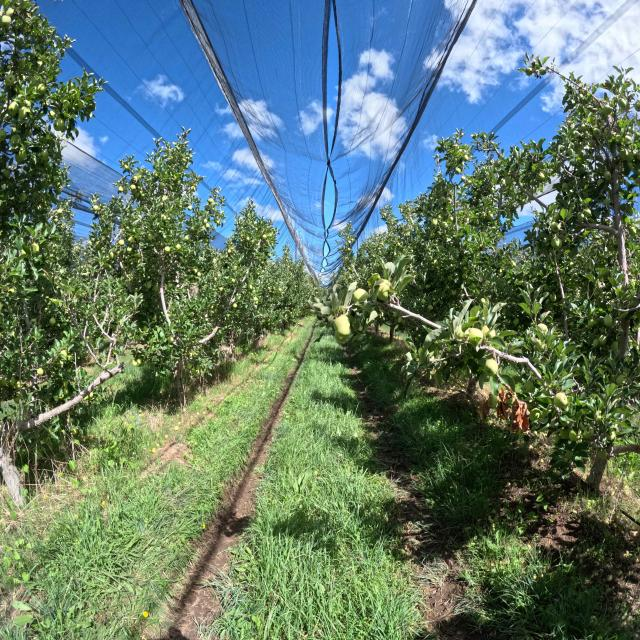-FireBlight-: (496, 383, 530, 434), (477, 399, 490, 421)
